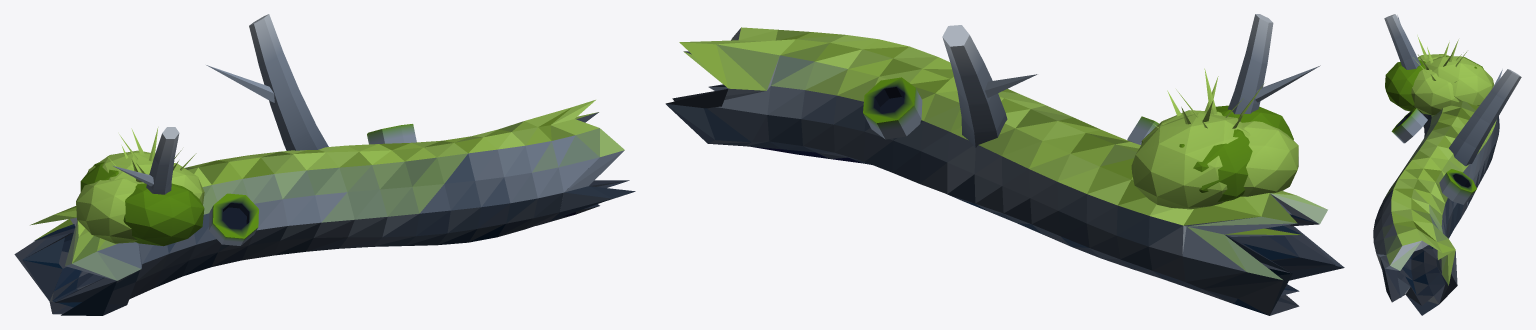
Rendered from pohon_tumbang_hollow_driftwood_1800.glb.
The picture shows the model from 3 angles, left to right: view 1: azimuth 30°, elevation 25°; view 2: azimuth 150°, elevation 25°; view 3: azimuth 270°, elevation 25°; orthographic projection. The views are drawn at different scales.
Visible parts, largest first — view 1: Batang_Pohon_Berlubang; view 2: Batang_Pohon_Berlubang; view 3: Batang_Pohon_Berlubang.
Boxes of the visible parts, box(x1,y1,x2,y2) form: Batang_Pohon_Berlubang: box(14, 14, 635, 315); Batang_Pohon_Berlubang: box(665, 14, 1344, 315); Batang_Pohon_Berlubang: box(1373, 14, 1521, 315).
Bounding box in the file's own units: 5.56 × 2.02 × 1.8.
